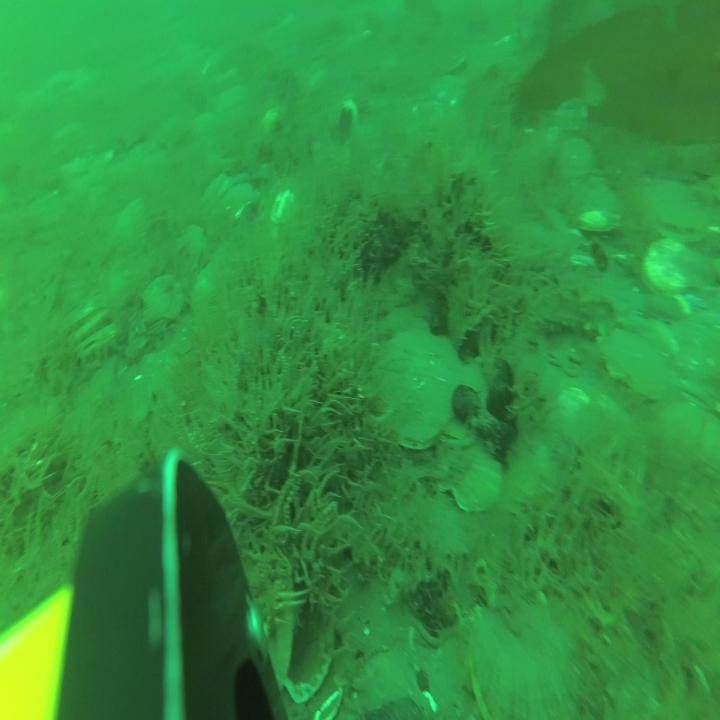holothurian: (530, 287, 616, 341)
scallop: (468, 597, 586, 720), (375, 319, 468, 455), (598, 326, 673, 406), (433, 359, 486, 457), (659, 395, 719, 471), (438, 445, 502, 513), (673, 307, 720, 393), (648, 174, 700, 238), (644, 239, 698, 295), (574, 178, 618, 230), (144, 276, 184, 328), (510, 218, 547, 274), (76, 323, 118, 371), (176, 219, 208, 277), (561, 135, 595, 177), (72, 308, 110, 344), (559, 102, 592, 141), (66, 300, 96, 336)
